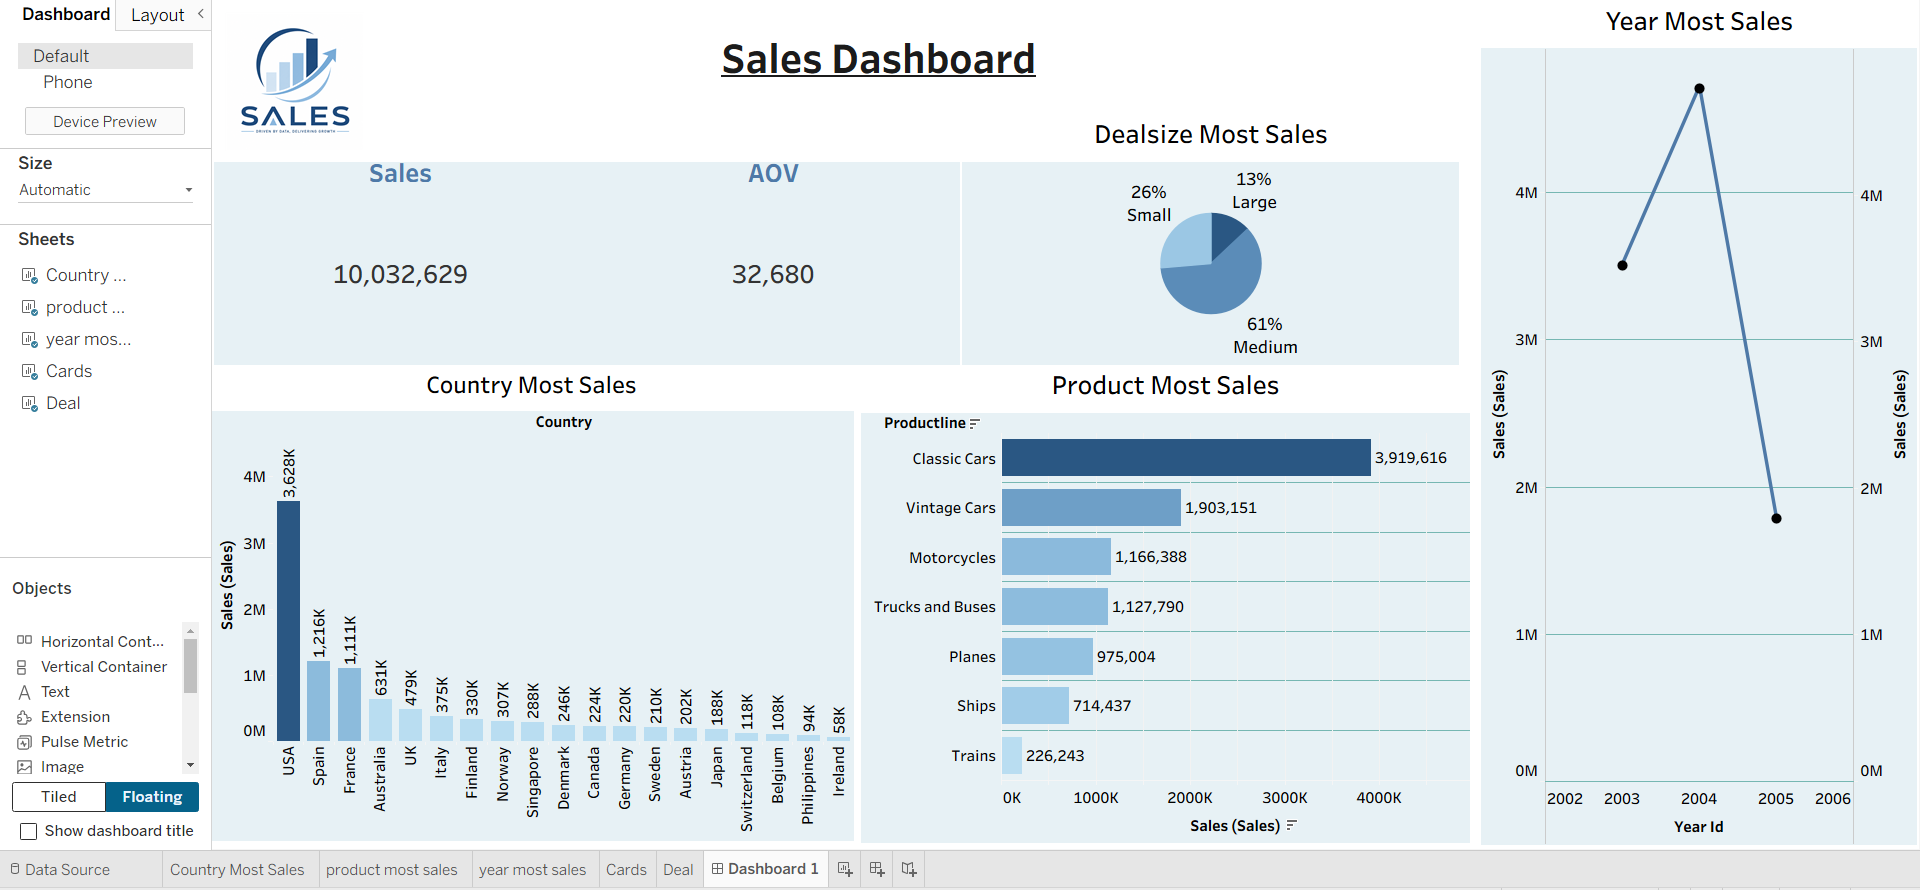

The dashboard page shown, as its layout file describes it:
{"tool":"tableau","page":{"name":"Dashboard 1","canvas":[1000,1000],"units":"permille","ordinal":0},"visuals":[{"type":"worksheet","title":"year most sales","mark":"Automatic","rows":["SALES","SALES"],"cols":["YEAR_ID"],"box":[743.4,1.2,256,994.1]},{"type":"image","param":"C:/Users/hp/Desktop/6a25af40-50f2-48fc-9a66-ec456b3cf42a.png","box":[7.8,16.4,158.1,163.3]},{"type":"text","box":[159.9,18.8,461.5,99.9]},{"type":"worksheet","title":"Deal","mark":"Pie","box":[439.3,134,291.5,297.3]},{"type":"worksheet","title":"Cards","mark":"Automatic","box":[1.2,192.7,436.9,238.5]},{"type":"worksheet","title":"product most sales","mark":"Automatic","rows":["PRODUCTLINE"],"cols":["SALES"],"box":[380.4,428.9,357,564]}]}

Visuals, with their boxes on the dashboard's canvas, which has no fixed pixel size, in thousandths of its width and height (x1, y1, x2, y2). These are canvas units, not pixel positions in the 1920x890 screenshot, which may show the page scaled, cropped or inside an application window:
"year most sales" worksheet: bbox=[743, 1, 999, 995]
image: bbox=[8, 16, 166, 180]
text: bbox=[160, 19, 621, 119]
"Deal" worksheet (Pie marks): bbox=[439, 134, 731, 431]
"Cards" worksheet: bbox=[1, 193, 438, 431]
"product most sales" worksheet: bbox=[380, 429, 737, 993]
